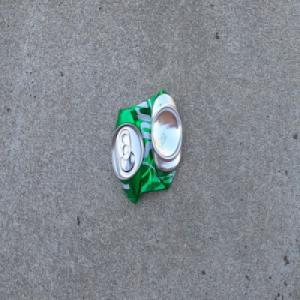SodaCan: (110, 88, 183, 205)
